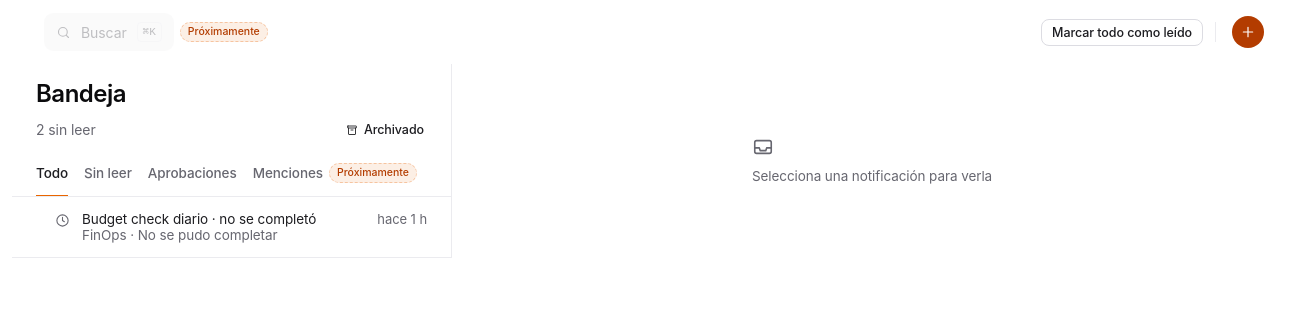
Test case: InboxPage › a failed run offers «Ver ejecución»; archiving moves it out of «Todo»
Click the option.
click(232, 228)  # box 12,197 -> 451,258
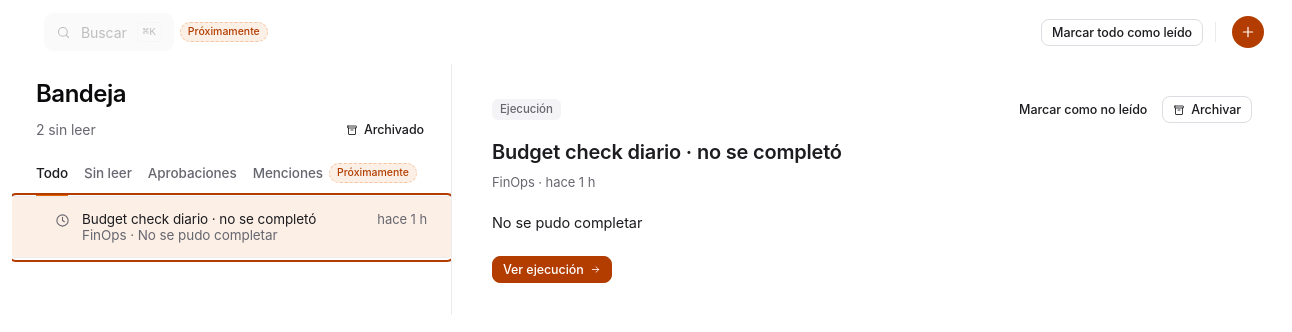
Check: the text "No se pudo completar" is shown, box 492,214 -> 642,230
Check: the button "Ver ejecución" is shown, box 492,256 -> 612,283
Click the button "Archivar".
click(1207, 110)  # box 1162,96 -> 1252,123
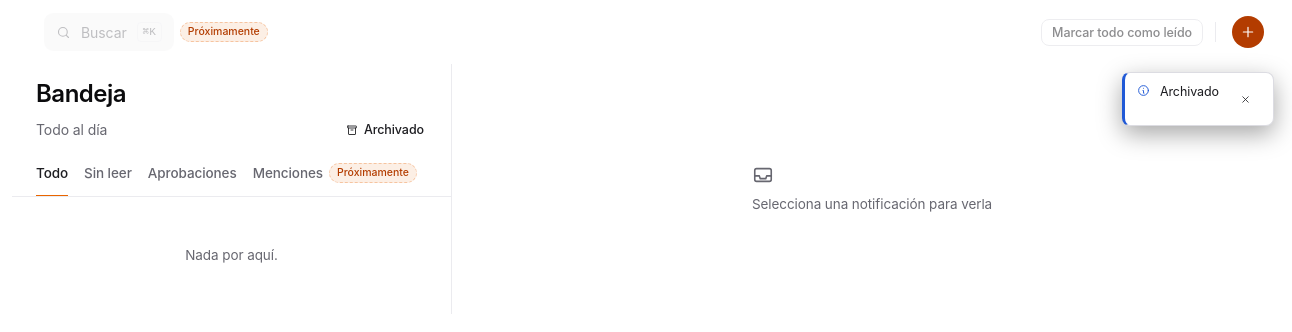
Check: the text "Archivado" is shown, box 1160,83 -> 1219,102
Check: the text "Nada por aquí." is shown, box 185,247 -> 278,263
